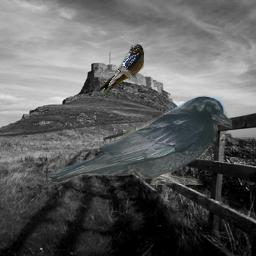Crow: (47, 95, 232, 185)
Swallow: (97, 44, 144, 104)
